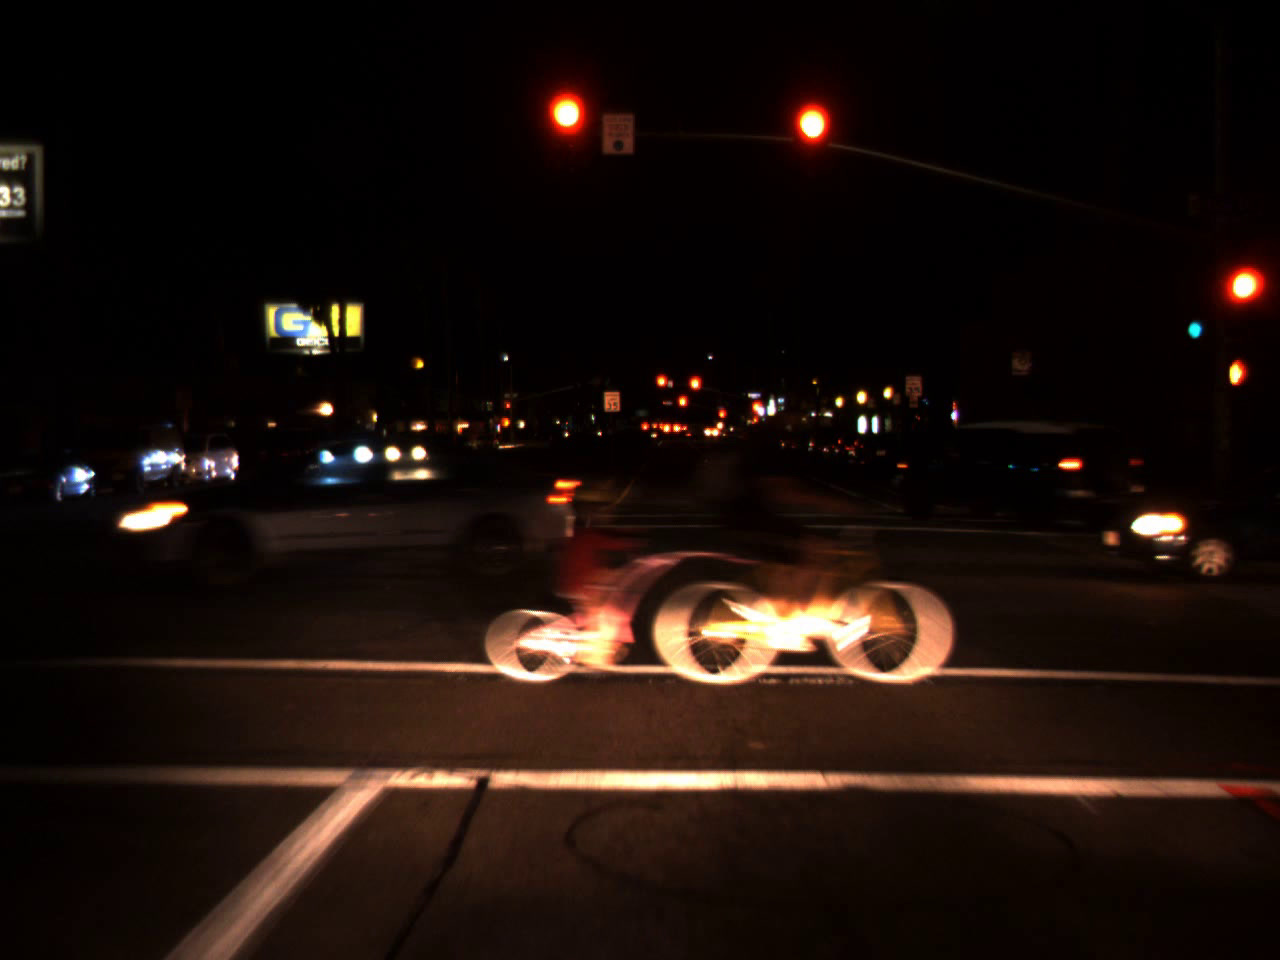stop: (1219, 267, 1262, 334), (792, 105, 829, 179), (550, 94, 586, 169), (688, 374, 701, 406), (654, 373, 669, 400), (677, 393, 689, 419), (750, 398, 762, 425), (502, 399, 514, 417), (717, 409, 724, 425)
